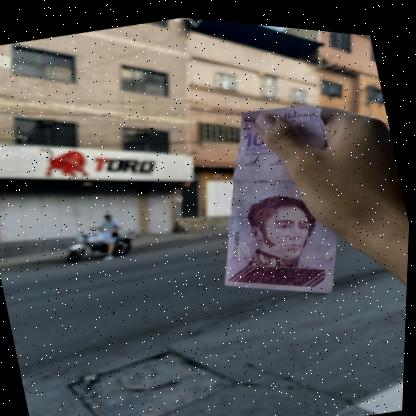one_hundred-front-vef: (185, 84, 368, 314)
